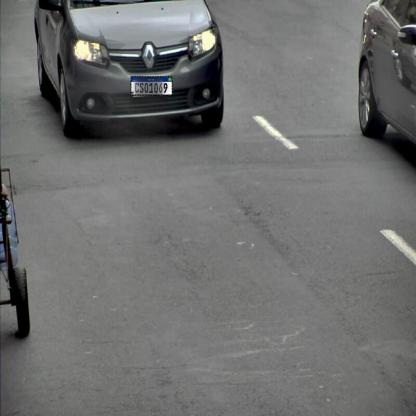PlacaM: (130, 76, 172, 96)
